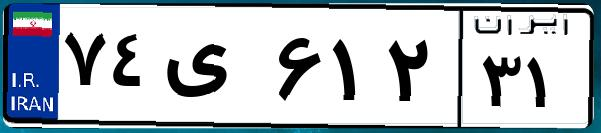1: (330, 28, 385, 110), (525, 38, 570, 115)
2: (385, 28, 445, 110)
3: (475, 38, 525, 113)
4: (110, 28, 158, 98)
6: (270, 28, 330, 110)
7: (57, 26, 110, 100)
ی: (158, 20, 270, 120)
